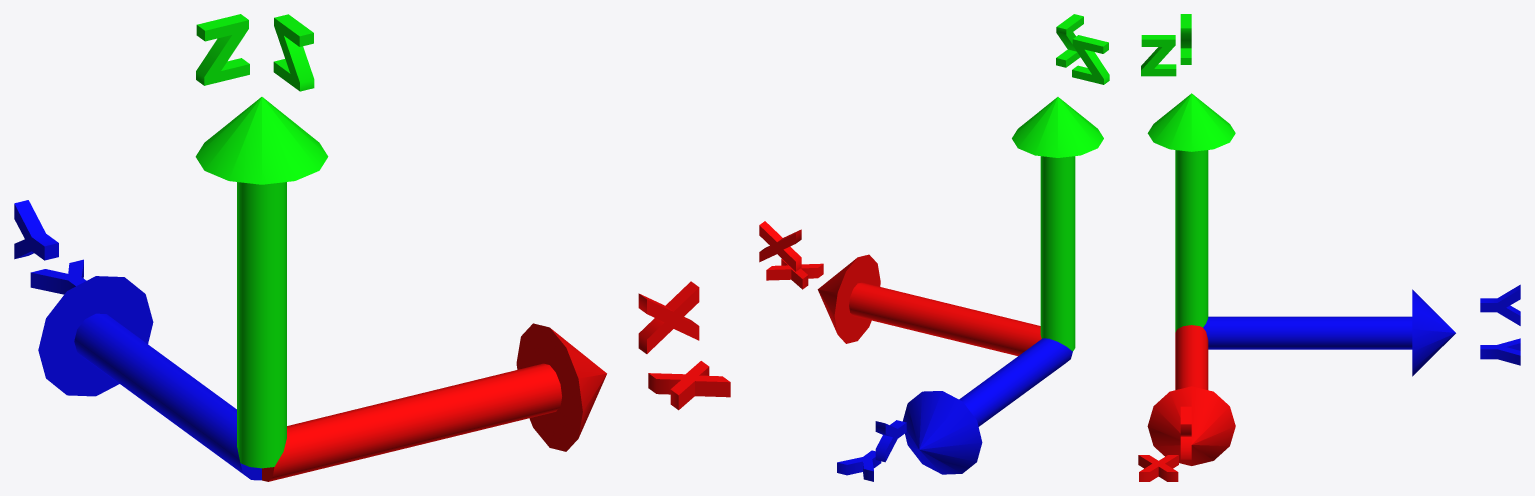
Rendered from arrows.glb.
3 views of the same model, side by side, from view 1: azimuth 30°, elevation 25°; view 2: azimuth 150°, elevation 25°; view 3: azimuth 270°, elevation 25° (orthographic). The views are drawn at different scales.
Visible parts, largest first — view 1: Arrows; view 2: Arrows; view 3: Arrows.
Boxes of the visible parts, x1,y1,x2,y2 form: Arrows: (14,14,730,481); Arrows: (759,14,1109,481); Arrows: (1138,14,1520,481).
Bounding box in the file's own units: 1.72 × 1.69 × 1.73.
